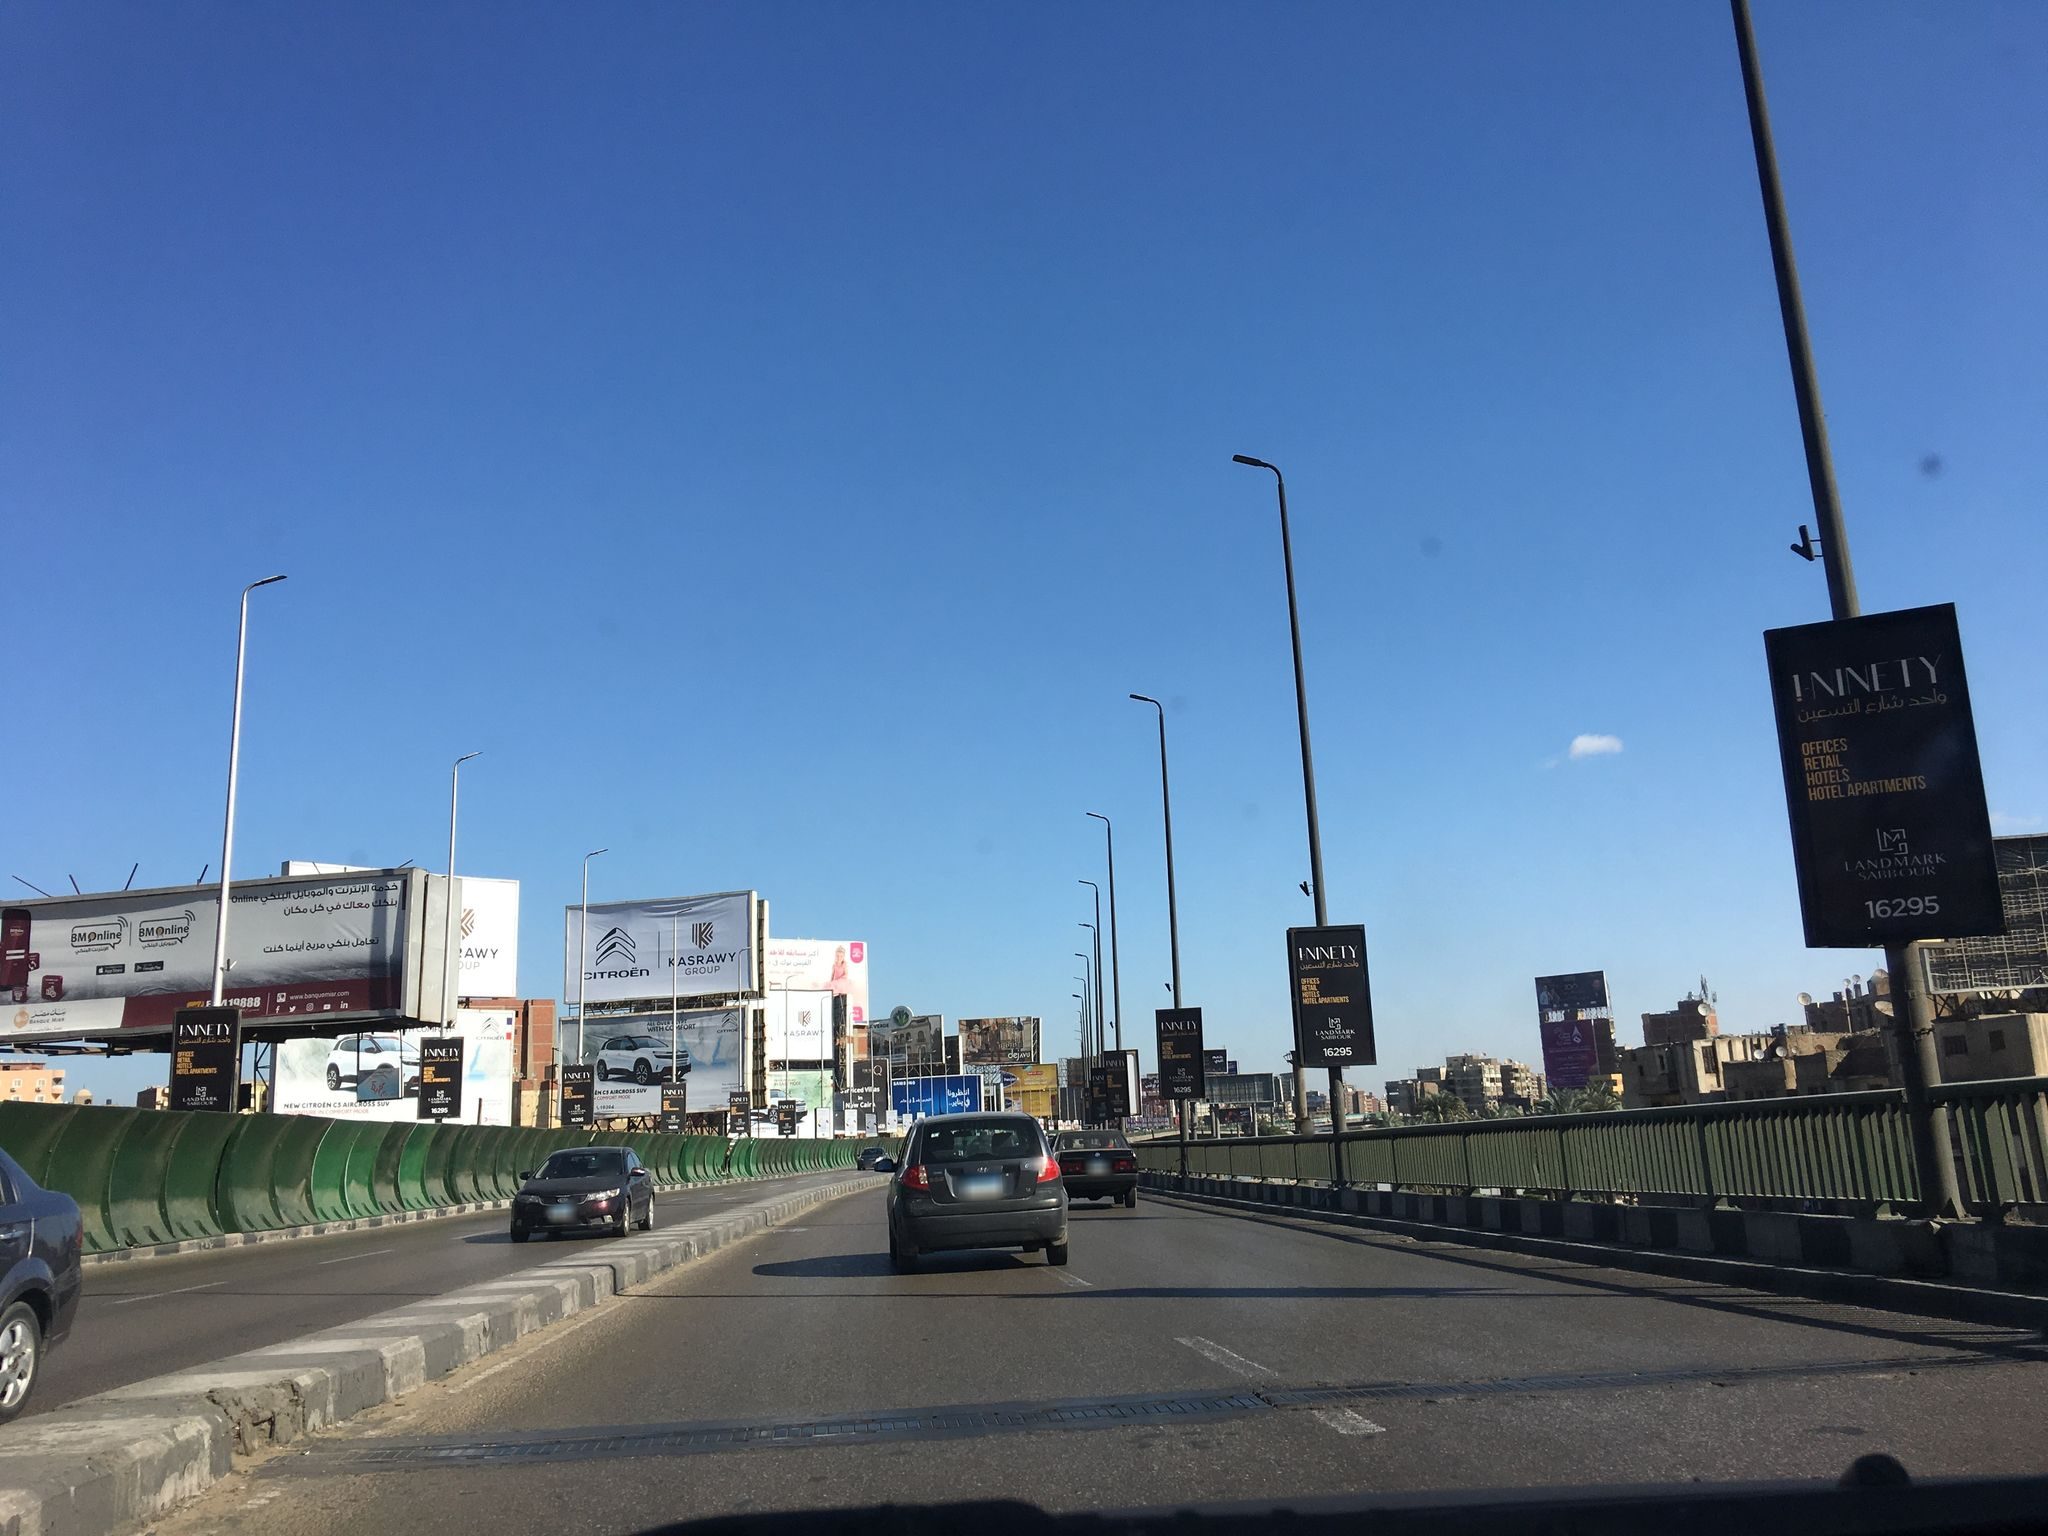car: (871, 1112, 1071, 1270), (506, 1146, 658, 1241), (1051, 1128, 1142, 1208), (856, 1146, 887, 1170)
